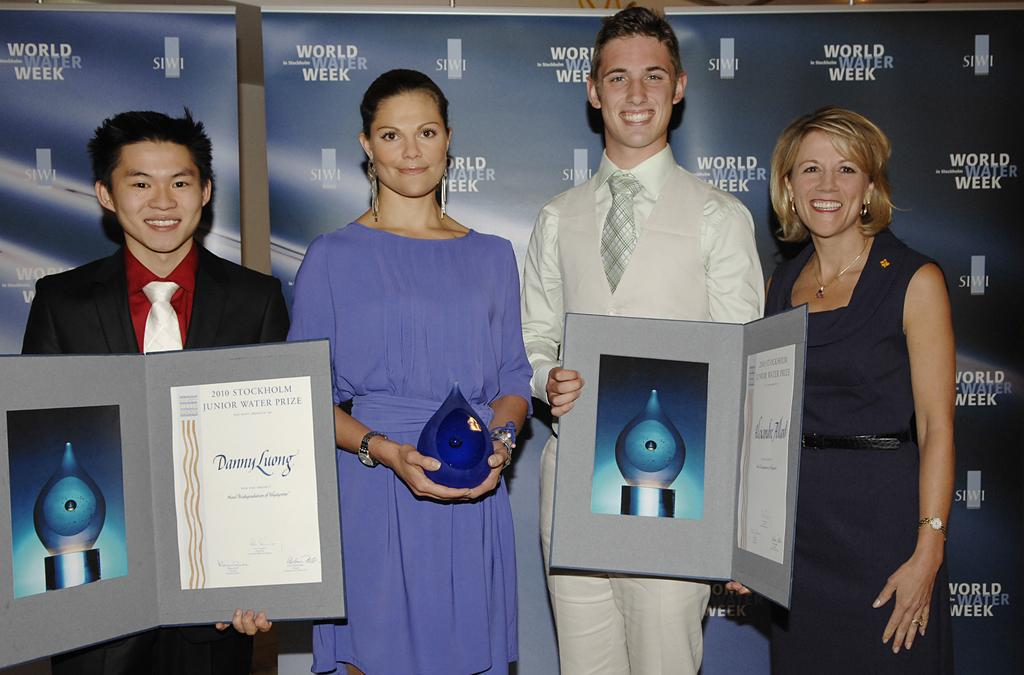Sem Máscara: (113, 139, 202, 255), (596, 31, 675, 146), (366, 90, 445, 199), (786, 129, 867, 235)
